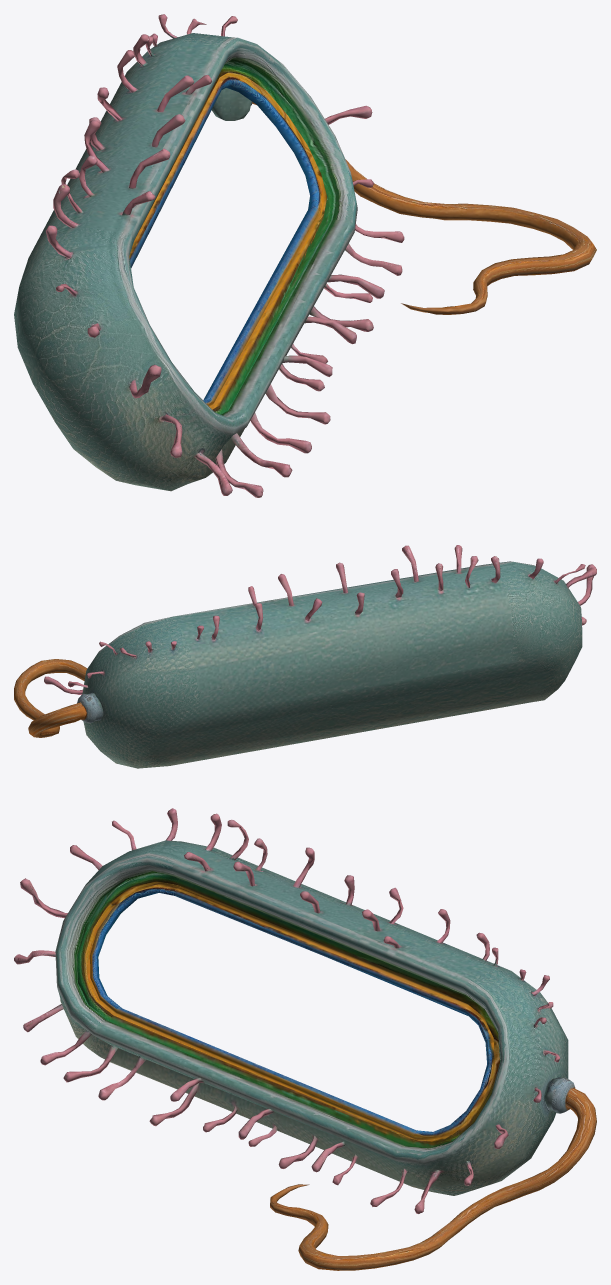
Rendered from bacteria-tripo.failed-tripo.glb.
The picture shows the model from 3 angles, top to bottom: view 1: azimuth 30°, elevation 25°; view 2: azimuth 150°, elevation 25°; view 3: azimuth 270°, elevation 25°; orthographic projection. The views are drawn at different scales.
Visible parts, largest first — view 1: tripo_node_5c1e63dd-d59e-464d-9d83-2a2fa179f57a; view 2: tripo_node_5c1e63dd-d59e-464d-9d83-2a2fa179f57a; view 3: tripo_node_5c1e63dd-d59e-464d-9d83-2a2fa179f57a.
Boxes of the visible parts, x1,y1,x2,y2 form: tripo_node_5c1e63dd-d59e-464d-9d83-2a2fa179f57a: (14, 14, 596, 497); tripo_node_5c1e63dd-d59e-464d-9d83-2a2fa179f57a: (14, 545, 596, 768); tripo_node_5c1e63dd-d59e-464d-9d83-2a2fa179f57a: (14, 808, 596, 1270).
Bounding box in the file's own units: 0.9224 × 0.3652 × 0.8395.
1 material, 1 textured.
